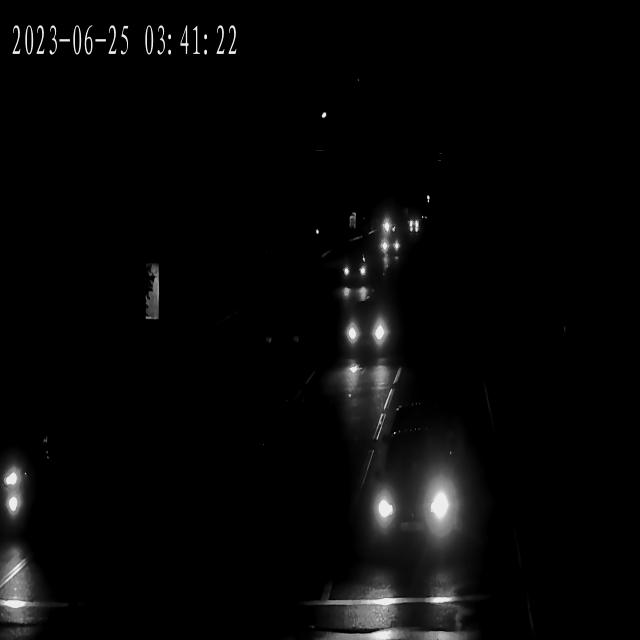Car: (357, 430, 466, 550), (0, 420, 53, 540), (339, 307, 394, 360), (337, 255, 371, 286), (378, 236, 401, 258), (379, 209, 395, 233), (409, 214, 423, 234)
